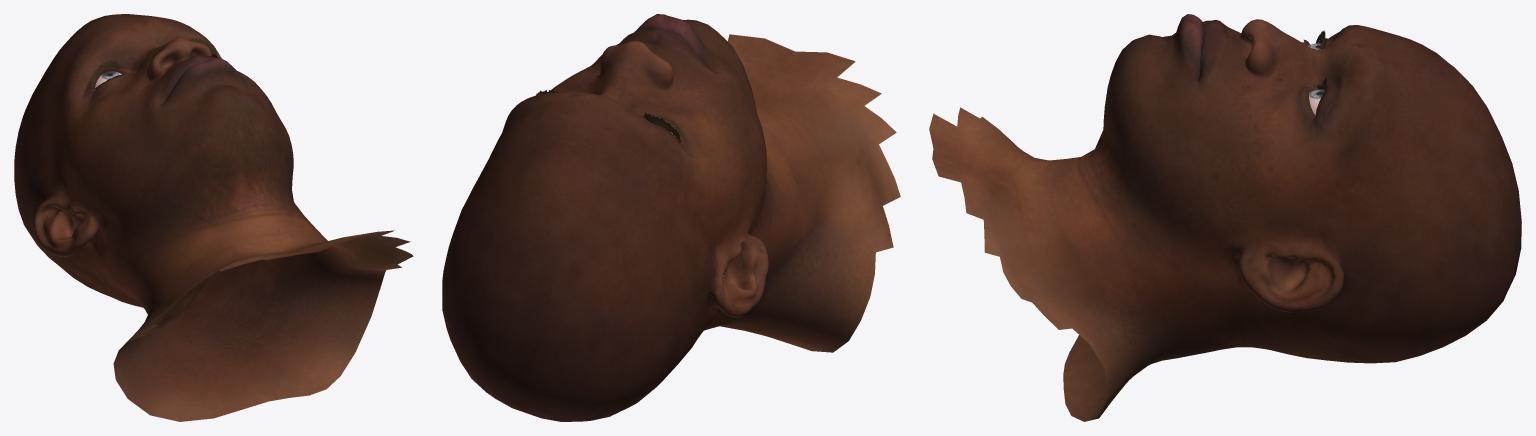
The picture shows the model from 3 angles, left to right: view 1: azimuth 30°, elevation 25°; view 2: azimuth 150°, elevation 25°; view 3: azimuth 270°, elevation 25°; orthographic projection. The views are drawn at different scales.
Visible parts, largest first — view 1: Body_Bodymesh, Eyelashes_Eyelashesmesh; view 2: Body_Bodymesh, Eyelashes_Eyelashesmesh; view 3: Body_Bodymesh.
Part boxes in pixels (x1,y1,x2,y2): Body_Bodymesh: (14, 14, 413, 421); Eyelashes_Eyelashesmesh: (91, 37, 217, 91); Body_Bodymesh: (442, 14, 900, 421); Eyelashes_Eyelashesmesh: (536, 90, 682, 142); Body_Bodymesh: (929, 14, 1521, 421).
Bounding box in the file's own units: 23.22 × 24.66 × 36.91.
